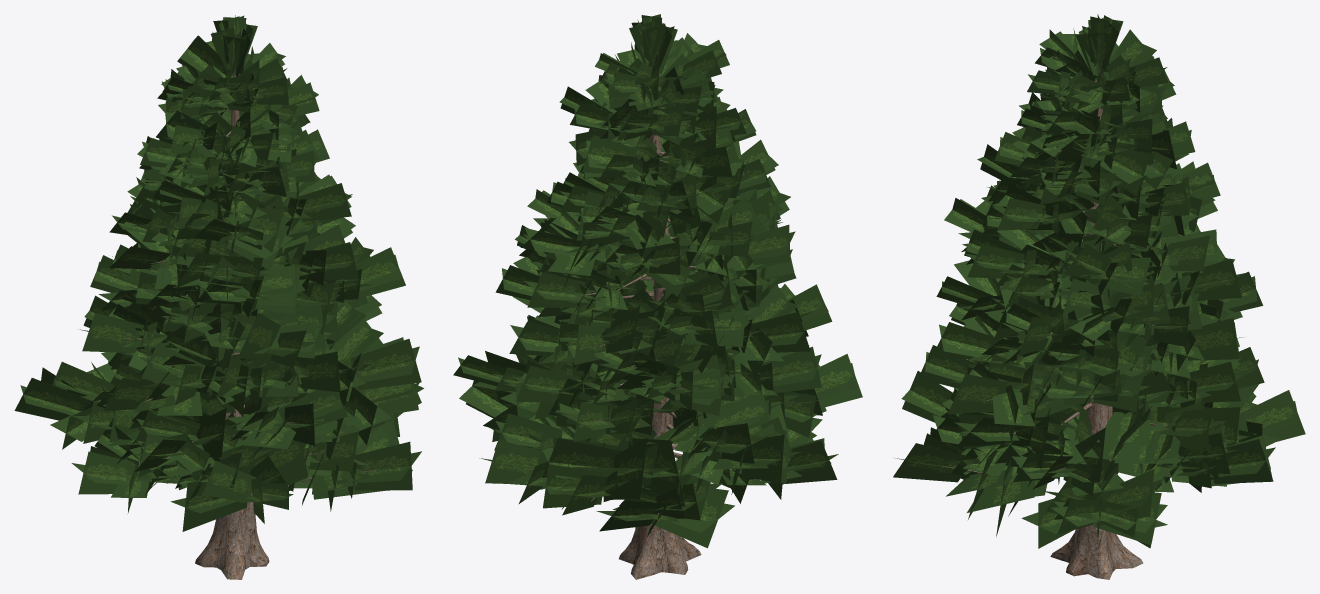
Rendered from pine.glb.
3 views of the same model, side by side, from view 1: azimuth 30°, elevation 25°; view 2: azimuth 150°, elevation 25°; view 3: azimuth 270°, elevation 25° (orthographic).
Visible parts, largest first — view 1: Pine; view 2: Pine; view 3: Pine.
Part boxes in pixels (x1=…): Pine: x1=14, y1=15, x2=423, y2=579; Pine: x1=453, y1=14, x2=862, y2=579; Pine: x1=893, y1=14, x2=1305, y2=579.
Bounding box in the file's own units: 5.09 × 7.2 × 4.94.
Materials: 2 (2 with a texture image).
